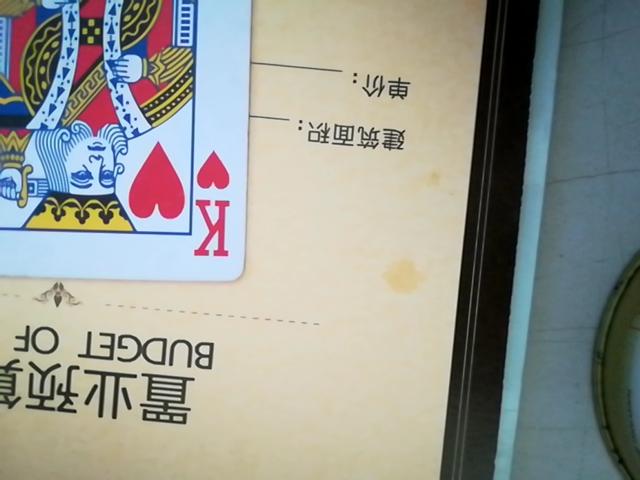hx k: (0, 0, 254, 283)
